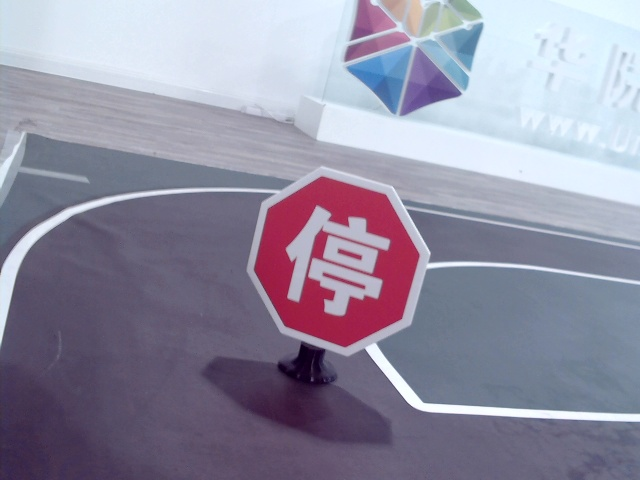stop: (283, 197, 382, 319)
